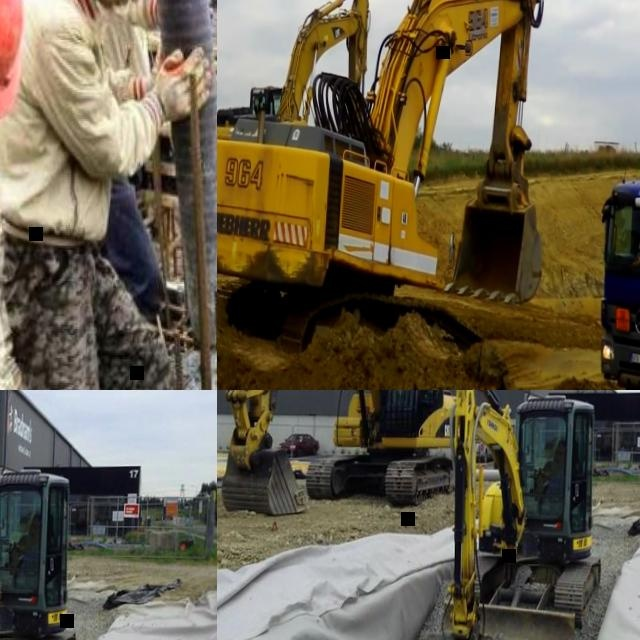Hardhat: (0, 0, 22, 118)
NO-Mask: (99, 0, 124, 13)
NO-Safety Vest: (0, 0, 119, 242), (92, 0, 151, 83)
Person: (0, 0, 217, 390), (0, 0, 34, 390), (15, 511, 42, 567), (540, 437, 567, 493), (254, 90, 264, 108)
machinery: (217, 0, 547, 356), (417, 390, 606, 640), (222, 390, 463, 519), (217, 0, 373, 142), (0, 431, 81, 640), (597, 158, 640, 390)
vehicle: (278, 431, 318, 456)
